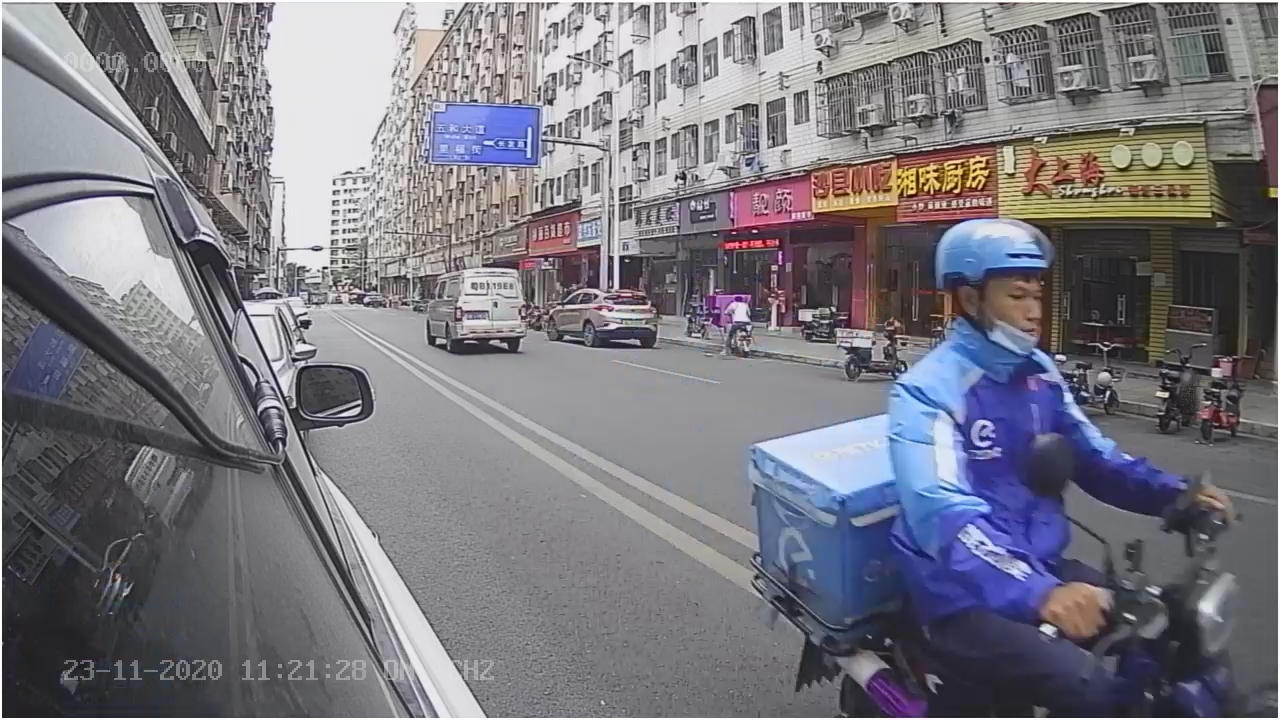person: (886, 220, 1113, 630)
